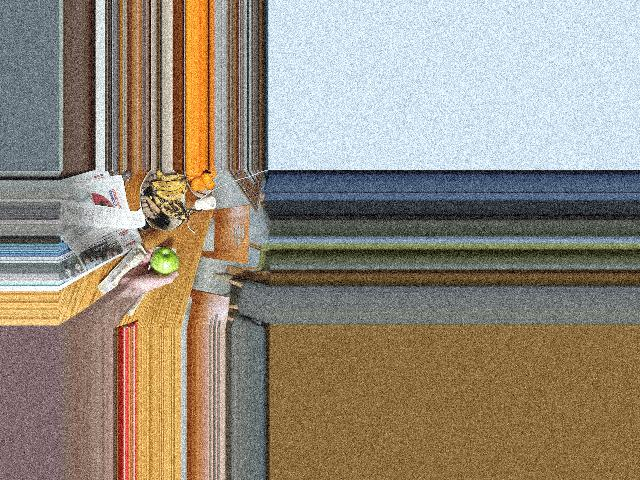apple: (147, 249, 180, 278)
